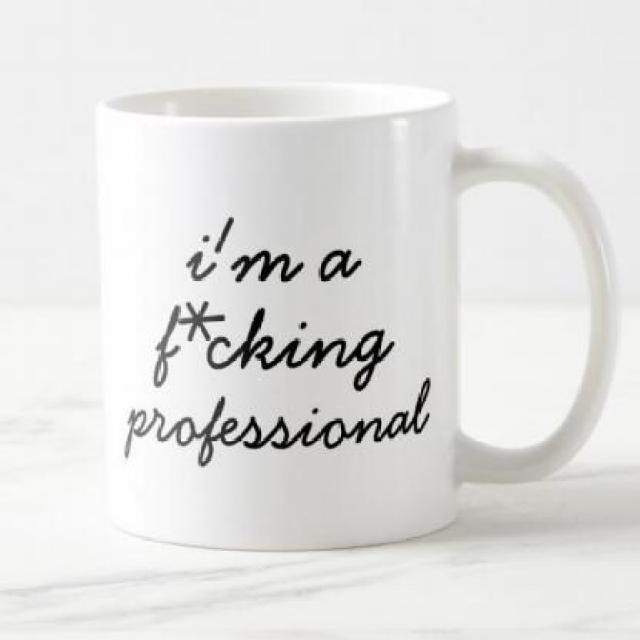taza: (90, 82, 622, 553)
